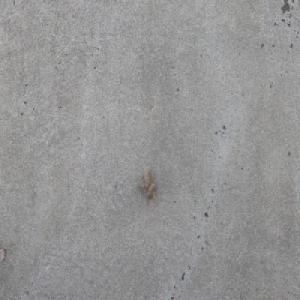Rock: (136, 166, 156, 201)
